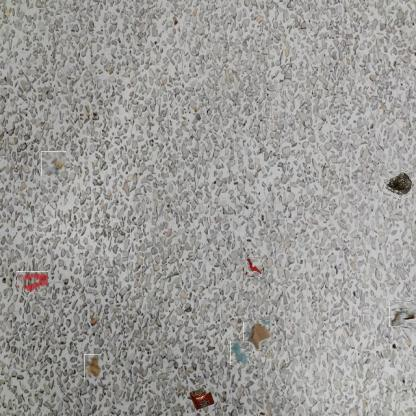dirty: (382, 170, 412, 199), (187, 385, 217, 413), (243, 320, 270, 350), (389, 300, 416, 327), (41, 151, 66, 176), (84, 354, 101, 379), (245, 258, 264, 276)
liquid: (16, 271, 48, 292), (229, 343, 251, 364)
